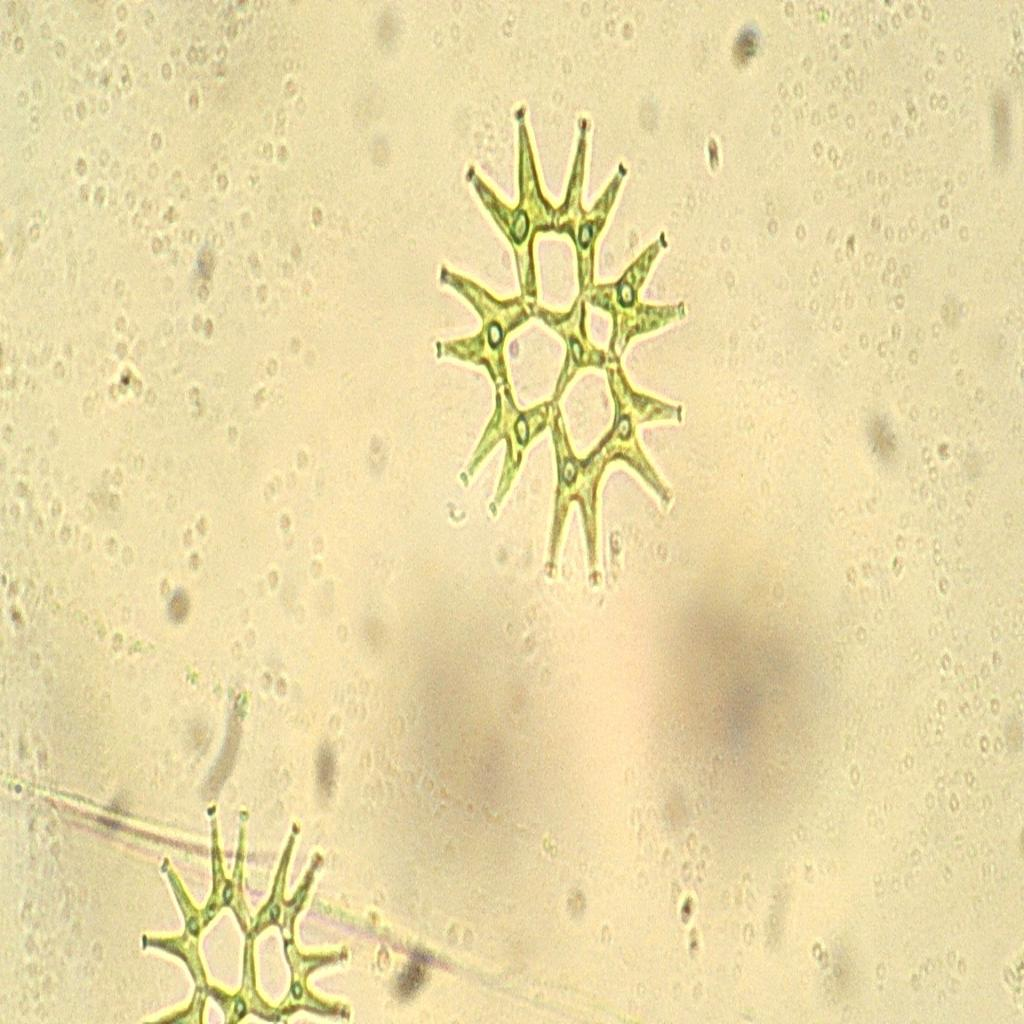Pediastrum_1T: (426, 83, 712, 600)
